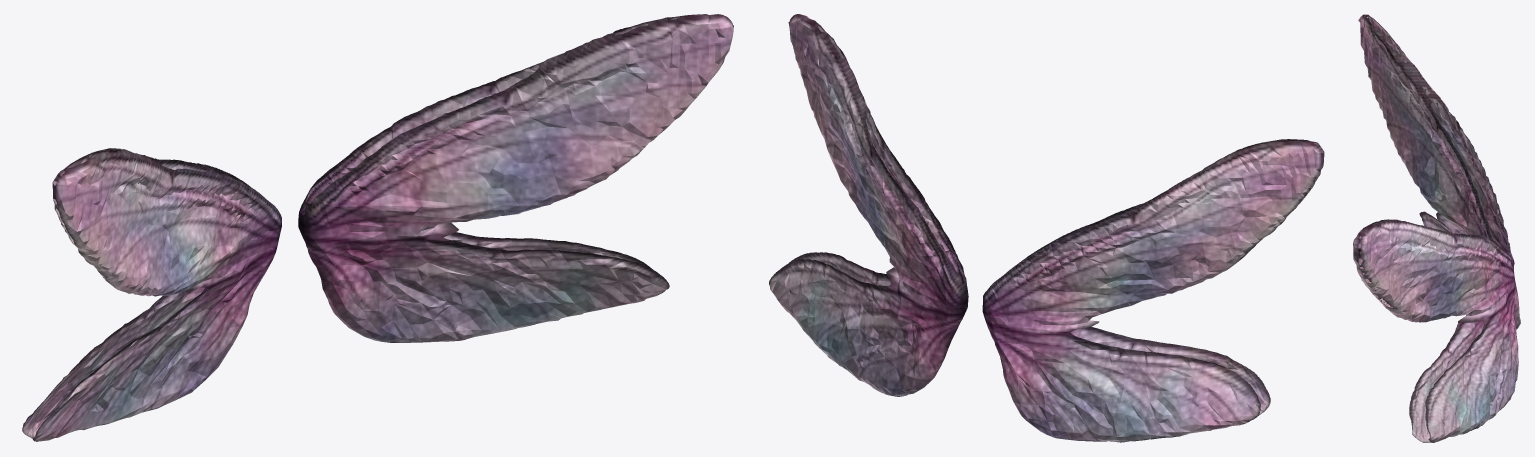
File: dragonfly.glb
The picture shows the model from 3 angles, left to right: view 1: azimuth 30°, elevation 25°; view 2: azimuth 150°, elevation 25°; view 3: azimuth 270°, elevation 25°; orthographic projection. The views are drawn at different scales.
Parts seen in each view (by area): view 1: geometry_0; view 2: geometry_0; view 3: geometry_0.
Boxes of the visible parts, left/top/right/bottom form: geometry_0: left=22, top=14, right=733, bottom=441; geometry_0: left=769, top=14, right=1324, bottom=442; geometry_0: left=1353, top=14, right=1520, bottom=442.
Bounding box in the file's own units: 0.9941 × 0.4971 × 0.309.
Materials: 1 (1 with a texture image).
